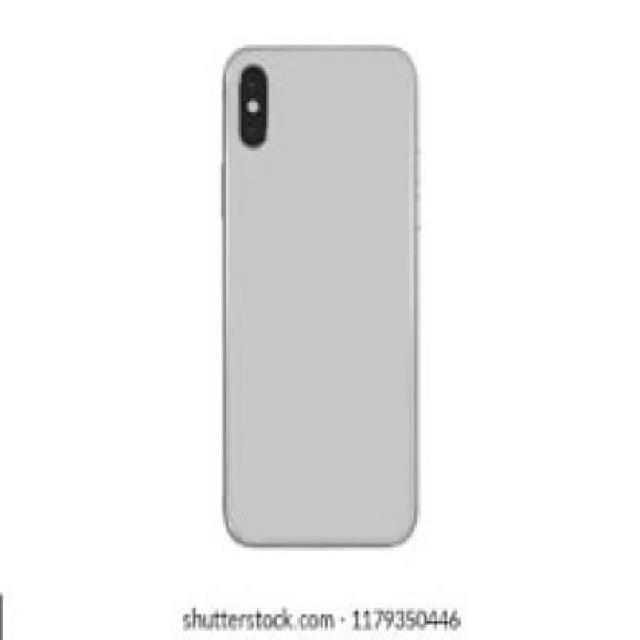fake: (220, 48, 420, 548)
